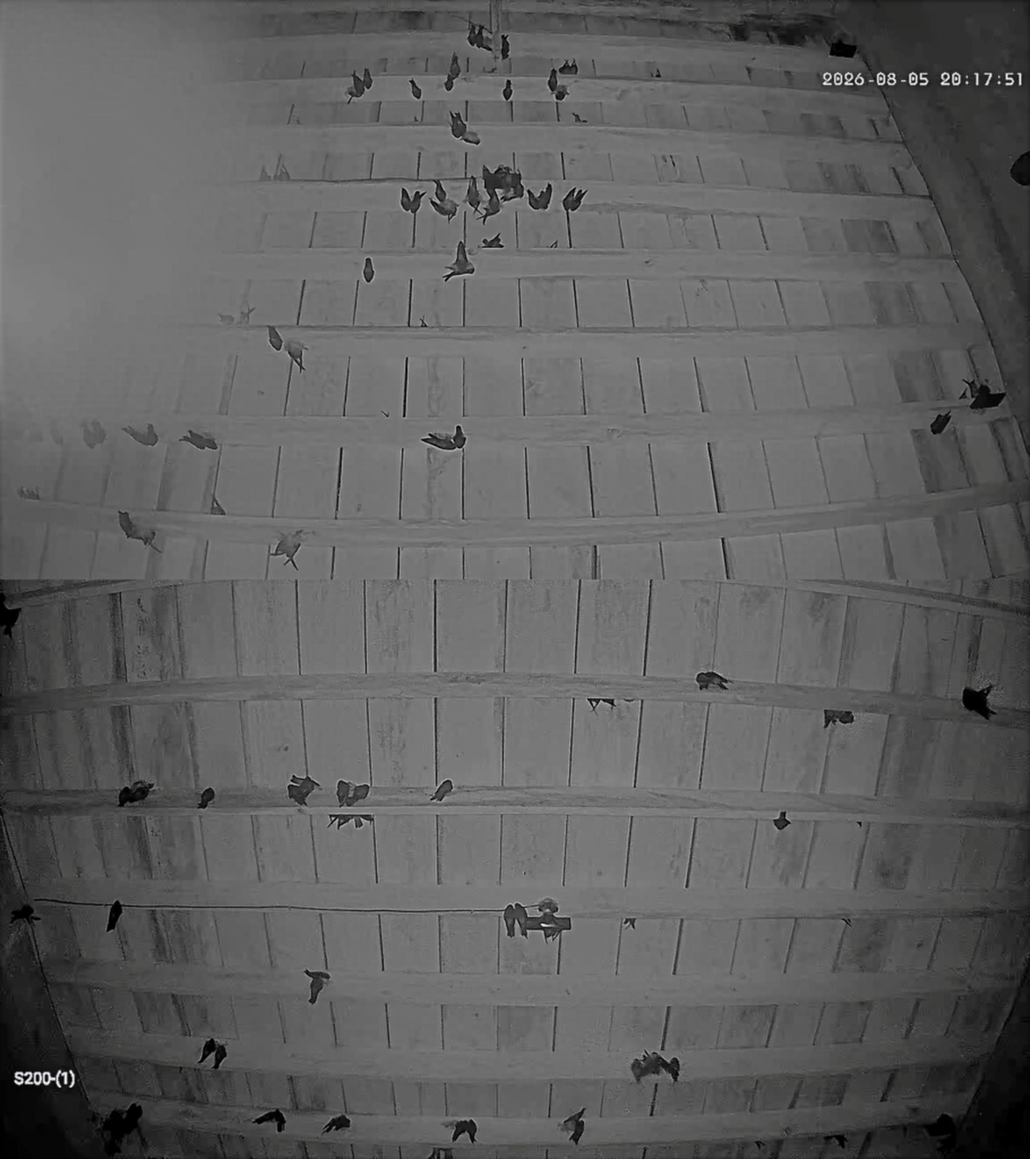swallow bird: (100, 1103, 142, 1155), (118, 511, 160, 553), (483, 165, 524, 197), (924, 1114, 957, 1153), (270, 531, 303, 570), (444, 241, 474, 281), (101, 1109, 126, 1154), (483, 166, 516, 199), (962, 685, 994, 719), (631, 1052, 667, 1082), (421, 425, 466, 449), (495, 167, 524, 202), (287, 776, 319, 806), (336, 780, 370, 807), (304, 969, 330, 1004), (118, 780, 153, 806), (0, 593, 21, 636), (496, 166, 524, 197), (498, 173, 526, 203), (122, 423, 158, 446), (178, 430, 218, 450), (253, 1108, 285, 1132), (631, 1053, 657, 1082), (328, 813, 374, 829), (430, 193, 457, 220), (285, 339, 307, 372), (528, 182, 553, 210), (81, 420, 106, 448), (501, 173, 525, 201), (696, 671, 729, 691), (11, 903, 40, 925), (482, 165, 503, 195), (481, 190, 500, 223), (560, 1107, 586, 1131), (562, 188, 587, 212), (401, 188, 423, 215), (465, 176, 481, 212), (452, 1119, 477, 1142), (123, 1103, 142, 1133), (430, 778, 453, 802), (322, 1114, 350, 1133), (959, 379, 987, 398), (347, 783, 371, 805), (824, 710, 853, 728), (106, 900, 122, 931), (449, 112, 467, 139), (198, 1038, 216, 1064), (474, 25, 492, 51), (930, 411, 950, 434), (291, 774, 321, 789), (336, 779, 352, 807), (447, 53, 461, 84), (515, 903, 528, 936), (266, 326, 283, 351), (48, 417, 63, 445), (537, 897, 559, 916), (664, 1057, 680, 1083), (273, 158, 291, 181), (503, 904, 515, 938), (197, 787, 215, 809), (570, 1117, 584, 1145), (213, 1043, 227, 1070), (469, 25, 485, 48), (236, 306, 255, 325), (460, 128, 481, 145), (824, 1134, 847, 1149), (327, 814, 350, 829), (773, 810, 790, 830), (352, 71, 365, 97), (345, 84, 363, 102), (542, 925, 561, 942), (958, 380, 975, 399), (558, 59, 578, 75), (363, 257, 375, 283), (411, 191, 424, 215), (452, 1120, 466, 1142), (433, 179, 447, 201), (18, 486, 40, 500), (482, 233, 503, 247), (210, 495, 225, 514), (547, 68, 558, 93), (355, 815, 374, 829), (468, 22, 479, 46), (409, 78, 421, 99), (401, 187, 411, 211), (502, 78, 512, 101), (554, 85, 568, 101), (258, 164, 271, 181), (362, 68, 372, 89), (219, 313, 235, 326), (501, 35, 509, 60), (572, 111, 588, 123), (587, 698, 600, 712), (435, 1149, 453, 1159), (600, 698, 616, 709), (444, 75, 454, 92), (623, 917, 637, 929), (428, 1147, 442, 1159), (755, 1141, 764, 1151), (841, 918, 851, 927), (420, 316, 427, 328), (654, 67, 661, 78), (548, 240, 557, 247)
